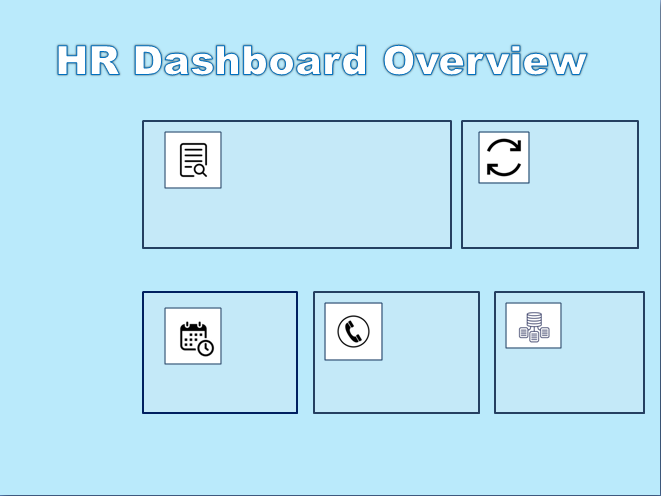

The page's visual inventory and layout, read from the dashboard file:
{"tool":"powerbi","page":{"name":"Summary ","canvas":[1280,720],"ordinal":0},"visuals":[{"type":"actionButton","box":[429.1,191.6,338.9,82.9],"z":0},{"type":"actionButton","box":[429.1,437.6,338.9,82.9],"z":1},{"type":"actionButton","box":[745.1,437.6,338.9,82.9],"z":2},{"type":"actionButton","box":[1026.9,181.6,243.1,82.9],"z":3},{"type":"actionButton","box":[1088.4,424.8,191.6,82.9],"z":4},{"type":"actionButton","box":[40,223.1,216,82.9],"z":5},{"type":"actionButton","box":[40,274.6,216,82.9],"z":6},{"type":"shape","box":[267.4,547.8,216,42.9],"z":7},{"type":"shape","box":[899.6,547.8,216,42.9],"z":8},{"type":"shape","box":[616.4,547.8,216,42.9],"z":9},{"type":"shape","box":[317.5,274.6,493.4,82.9],"z":10},{"type":"card","fields":{"Values":["Min(Query2.Last Refresh)"]},"box":[926.7,276,124.4,60.1],"z":11}]}

Visuals, with their boxes on the page's 1280x720 design canvas (x1, y1, x2, y2). These are canvas units, not pixel positions in the 661x496 screenshot, which may show the page scaled, cropped or inside an application window:
actionButton: region(429, 192, 768, 274)
actionButton: region(429, 438, 768, 520)
actionButton: region(745, 438, 1084, 520)
actionButton: region(1027, 182, 1270, 264)
actionButton: region(1088, 425, 1280, 508)
actionButton: region(40, 223, 256, 306)
actionButton: region(40, 275, 256, 358)
shape: region(267, 548, 483, 591)
shape: region(900, 548, 1116, 591)
shape: region(616, 548, 832, 591)
shape: region(318, 275, 811, 358)
card - Min(Query2.Last Refresh): region(927, 276, 1051, 336)
